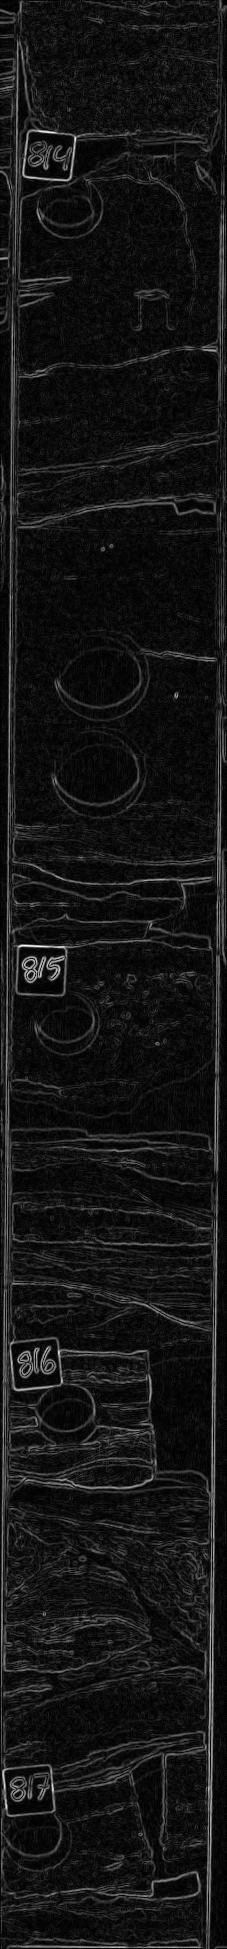hplug: (2, 1797, 79, 1879), (30, 1377, 102, 1451), (30, 987, 102, 1059), (33, 172, 105, 242)
scal: (50, 625, 156, 723), (50, 725, 150, 823)
vplug: (120, 131, 190, 339), (138, 1329, 206, 1493), (120, 1746, 194, 1899)
